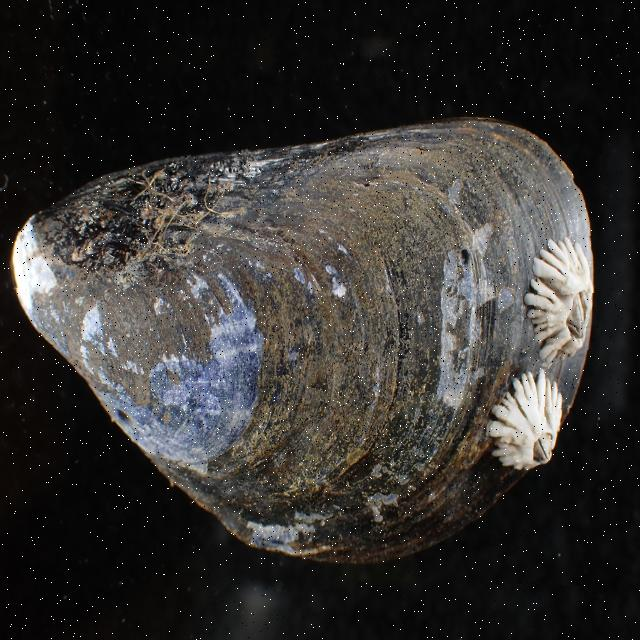Mytilus_galloprovincialis: (6, 112, 601, 583)
